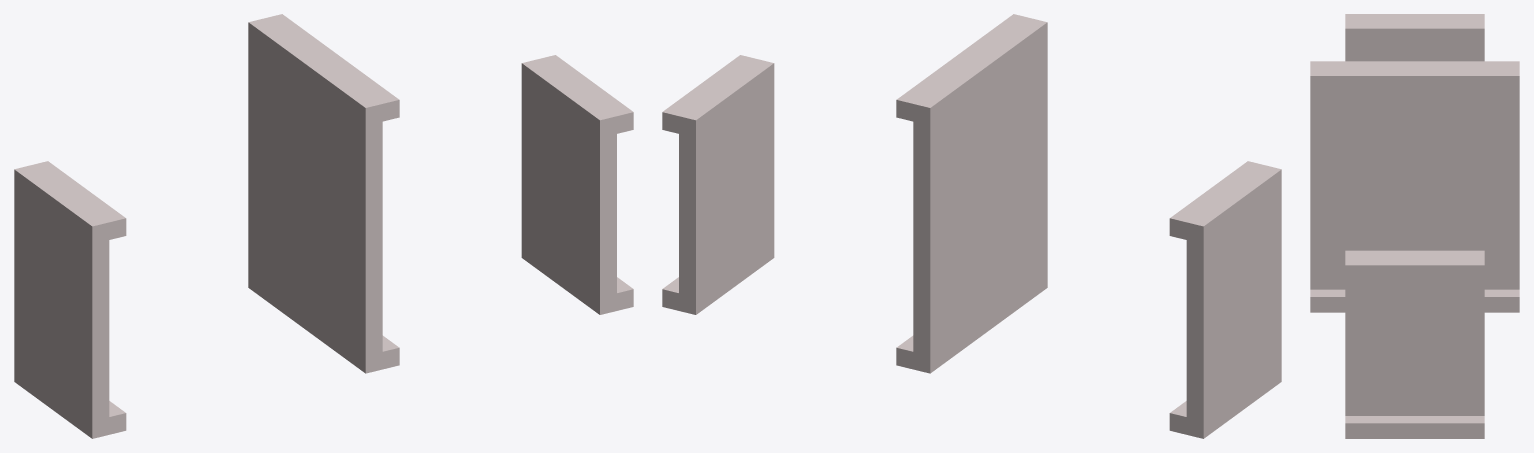
The model's file is Sail.obj.
The picture shows the model from 3 angles, left to right: view 1: azimuth 30°, elevation 25°; view 2: azimuth 150°, elevation 25°; view 3: azimuth 270°, elevation 25°; orthographic projection. The views are drawn at different scales.
Bounding box in the file's own units: 3.2 × 1.6 × 1.2.
1 material, 1 textured.
